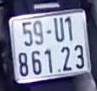1: (45, 47, 56, 74), (65, 15, 74, 41)
2: (58, 45, 72, 72)
3: (73, 42, 86, 72)
5: (21, 20, 35, 47)
6: (29, 49, 43, 75)
8: (17, 51, 29, 79)
9: (32, 19, 45, 46)
U: (52, 15, 65, 43)
